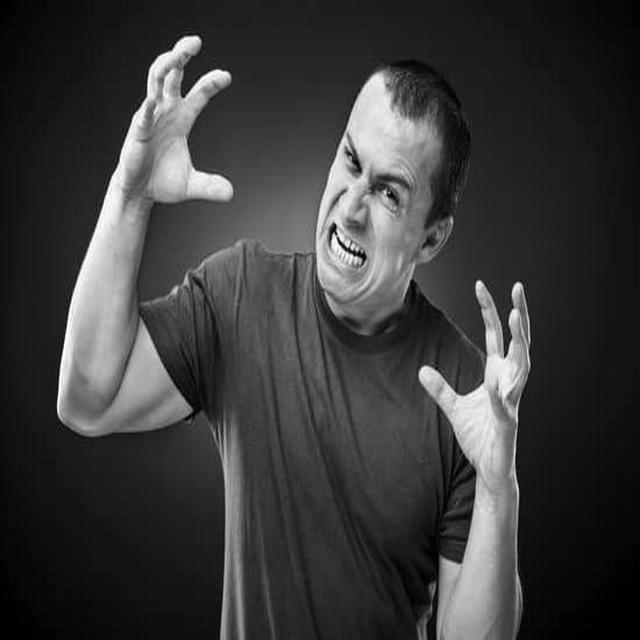Angry: (316, 89, 435, 297)
